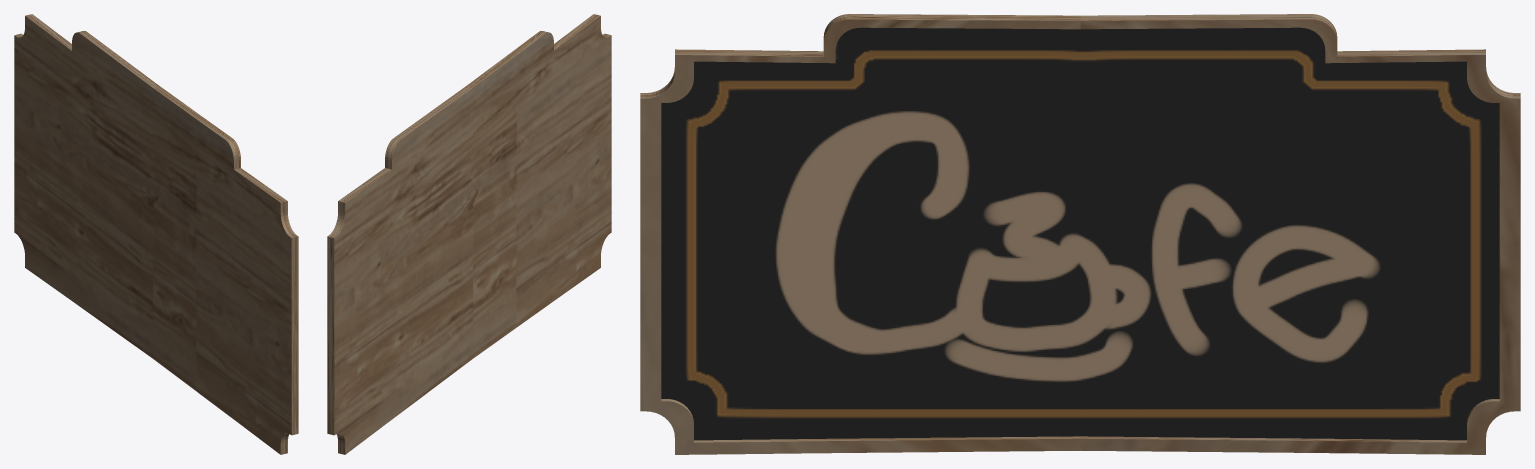
File: CafeSign.fbx
3 views of the same model, side by side, from view 1: azimuth 30°, elevation 25°; view 2: azimuth 150°, elevation 25°; view 3: azimuth 270°, elevation 25° (orthographic). The views are drawn at different scales.
Parts seen in each view (by area): view 1: Cube; view 2: Cube; view 3: Cube.
Part boxes in pixels (left/top/right/bottom): Cube: left=14, top=14, right=298, bottom=454; Cube: left=327, top=14, right=611, bottom=454; Cube: left=640, top=14, right=1520, bottom=454.
Bounding box in the file's own units: 14.45 × 534 × 977.
